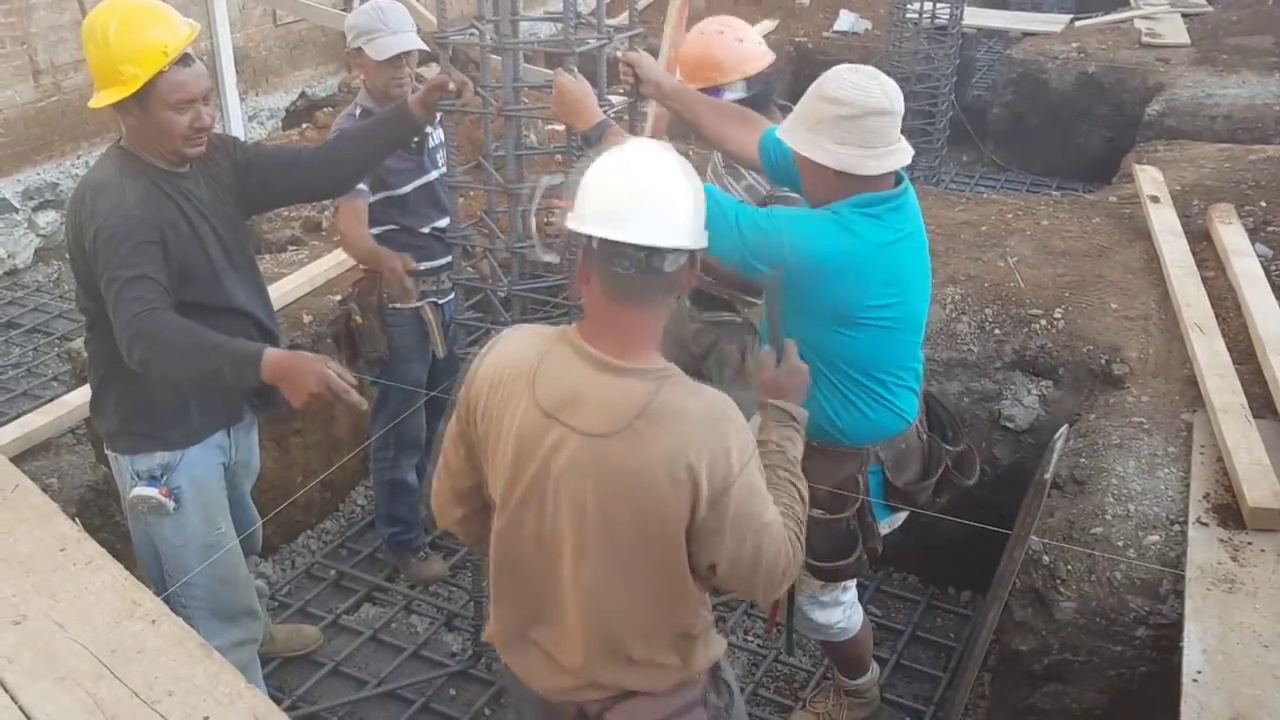helmet: (564, 134, 715, 254), (73, 2, 200, 110), (668, 12, 784, 88)
helmet-off: (745, 64, 908, 210), (341, 0, 433, 110)
helmet-on: (562, 139, 714, 377), (72, 1, 206, 171), (671, 11, 784, 139)
person: (77, 0, 459, 703), (548, 51, 939, 719), (436, 136, 825, 720), (324, 6, 458, 576), (661, 1, 795, 356)
